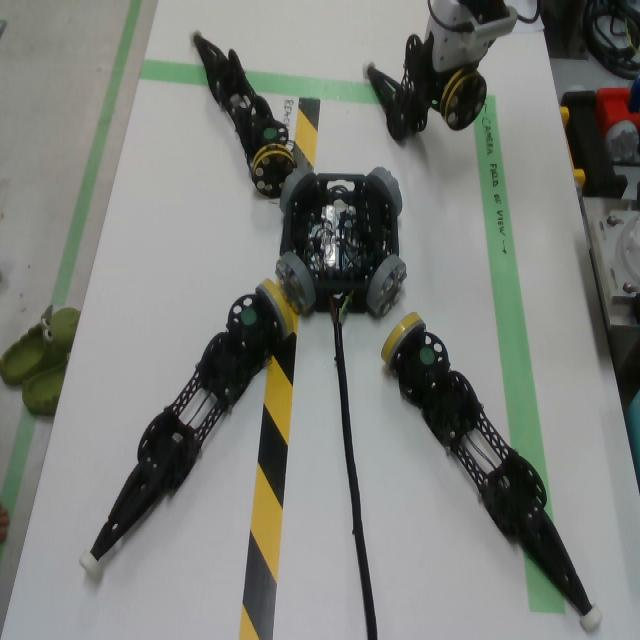body: (281, 173, 399, 313)
body_connector: (366, 255, 408, 317), (275, 252, 316, 315), (368, 167, 404, 216), (280, 168, 315, 215)
gripper: (408, 16, 494, 107)
leg: (380, 312, 603, 633), (78, 277, 295, 579), (188, 27, 298, 199), (361, 35, 427, 141), (429, 68, 487, 131)
leg_connector: (439, 68, 487, 132), (440, 68, 487, 131), (381, 312, 427, 371), (250, 144, 297, 199), (255, 279, 294, 339)
leg_marker: (241, 308, 257, 324), (420, 349, 434, 363), (264, 128, 277, 139)
